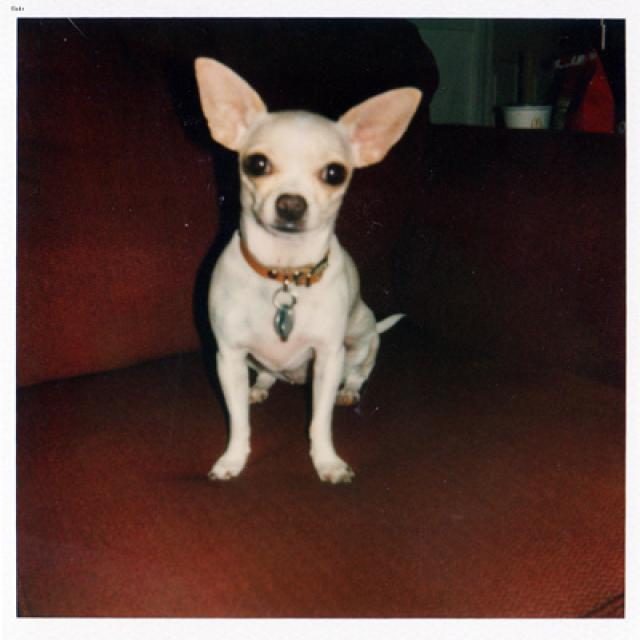dog-chihuahua: (189, 46, 430, 497)
